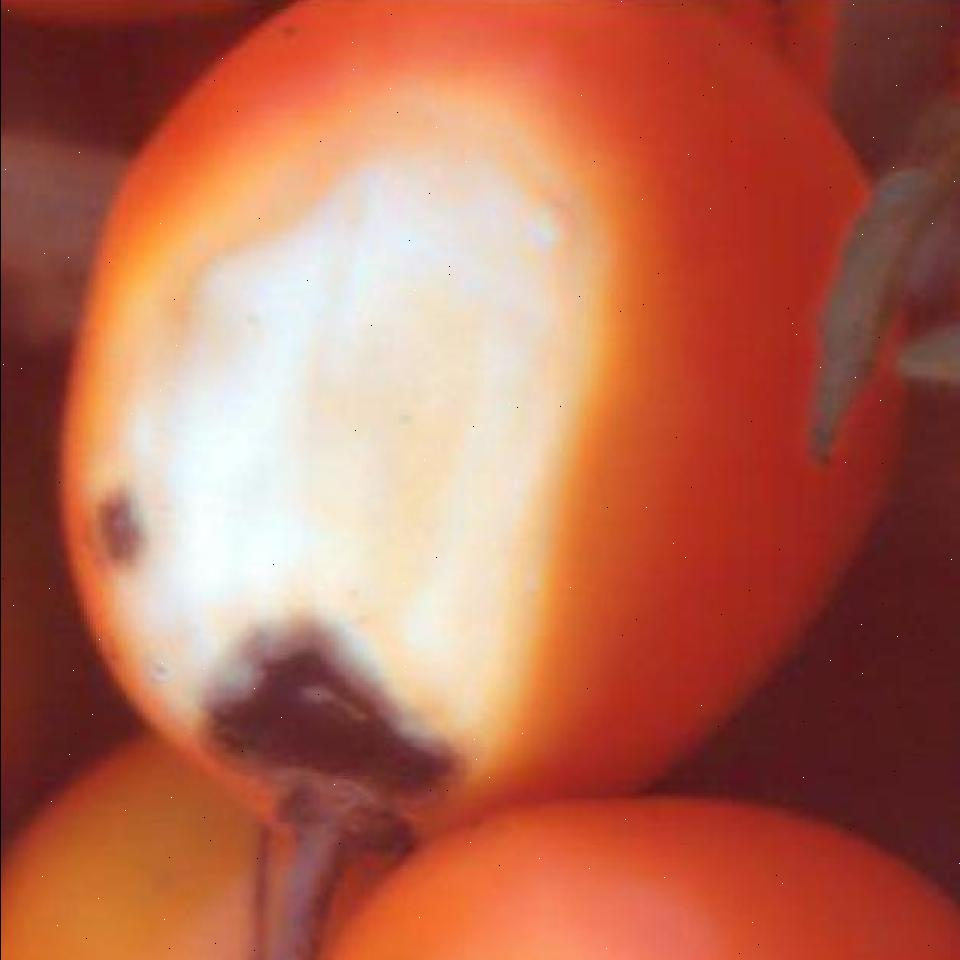Sunscald: (80, 84, 620, 790)
